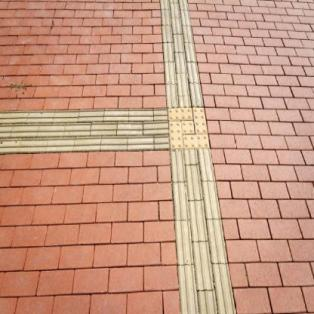Podoctatil: (0, 0, 236, 314)
